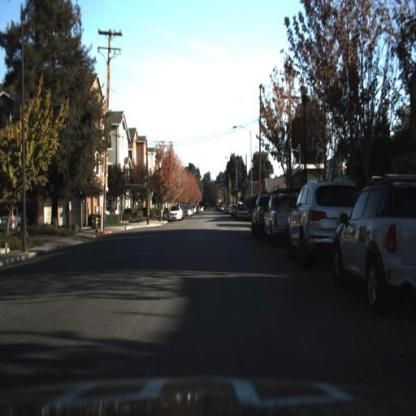car: (333, 174, 416, 313), (285, 178, 352, 264), (262, 189, 302, 246), (264, 185, 294, 245), (249, 191, 266, 239), (167, 202, 185, 224), (237, 202, 253, 223)
